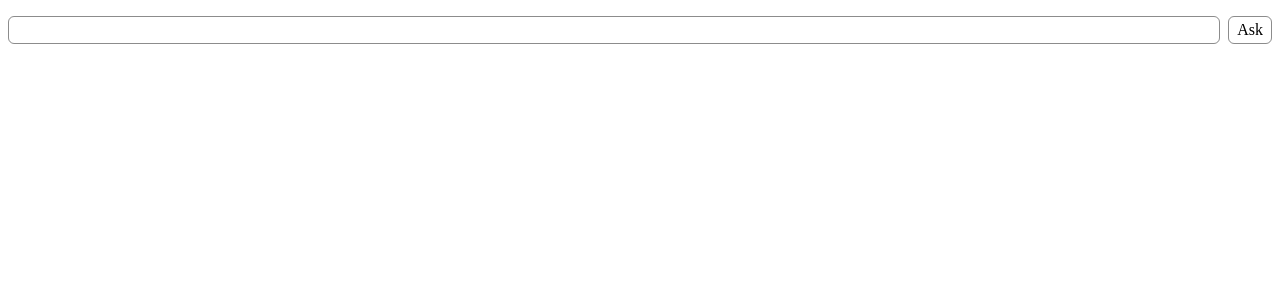
it: AssistantBox asking (spec assistant §4, §5) › says Asking while pending, then how many items, and repeats an identical status audibly
The image size is (1280, 295).
Later steps or results of the test are not shown.
In the field: [614, 30] box left=8, top=16, right=1220, bottom=44, type "first"
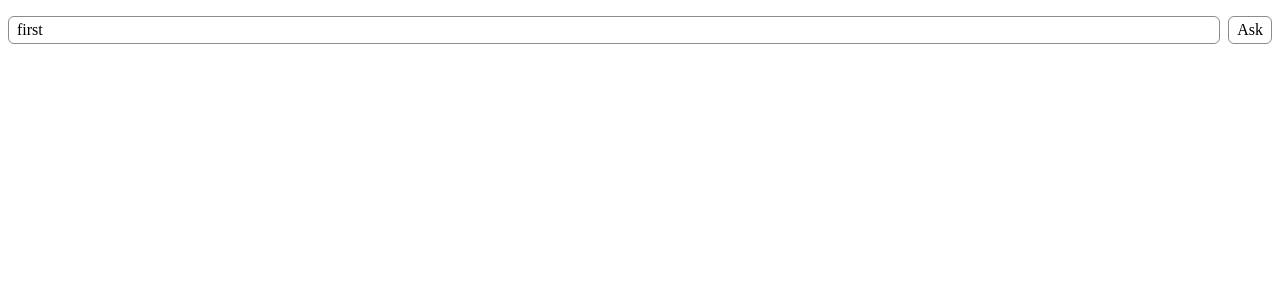
Submit the form, box left=8, top=16, right=1272, bottom=44
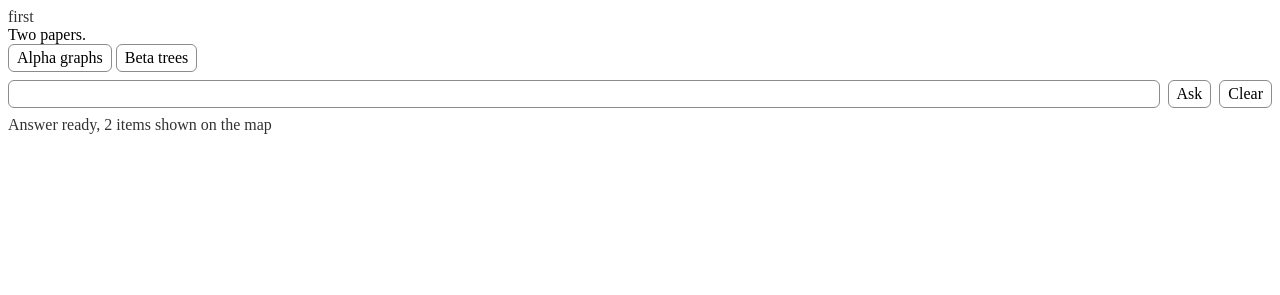
Result: the message reads "Answer ready, 2 items shown on the map" at left=8, top=116, right=272, bottom=133
Result: the element showing "first Two papers. Alpha graphs Beta trees" is shown at left=8, top=8, right=197, bottom=72
In the field: [584, 94] box left=8, top=80, right=1160, bottom=108, type "second"
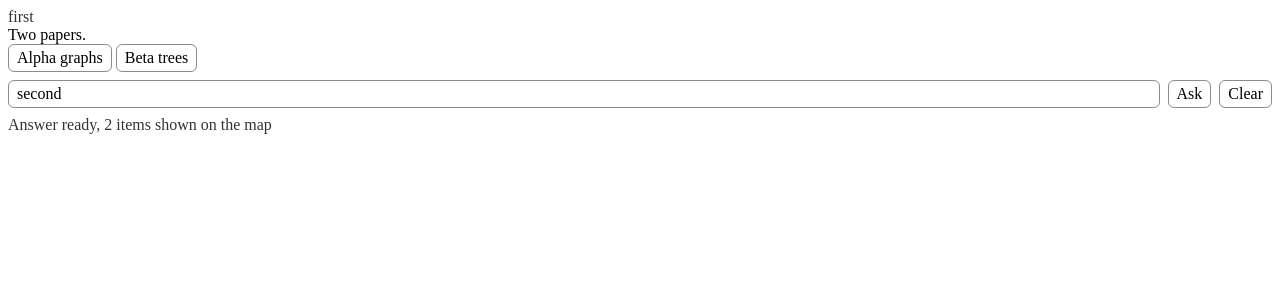
Submit the form, box left=8, top=80, right=1272, bottom=108
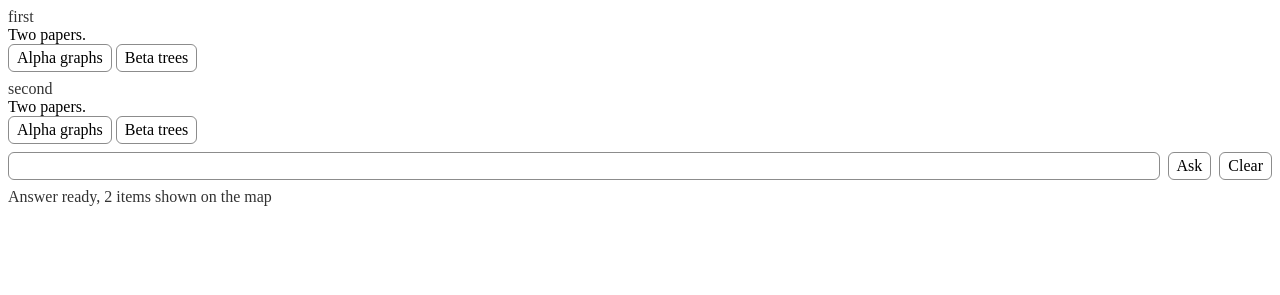
Result: the message reads "Answer ready, 2 items shown on the map" at left=8, top=188, right=276, bottom=205
In the field: [584, 166] box left=8, top=152, right=1160, bottom=180, type "third"
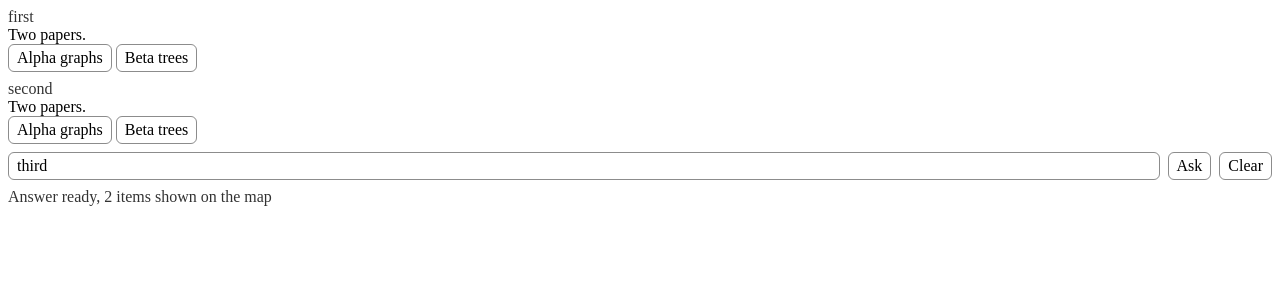
Submit the form, box left=8, top=152, right=1272, bottom=180
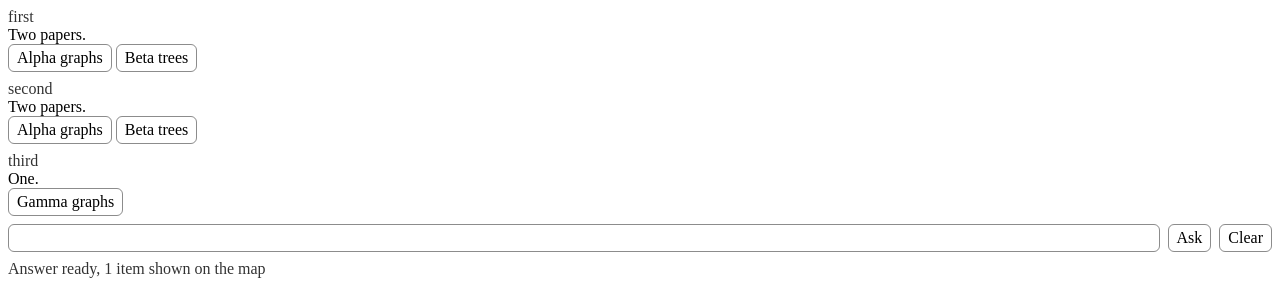
Result: the message reads "Answer ready, 1 item shown on the map" at left=8, top=260, right=266, bottom=277
